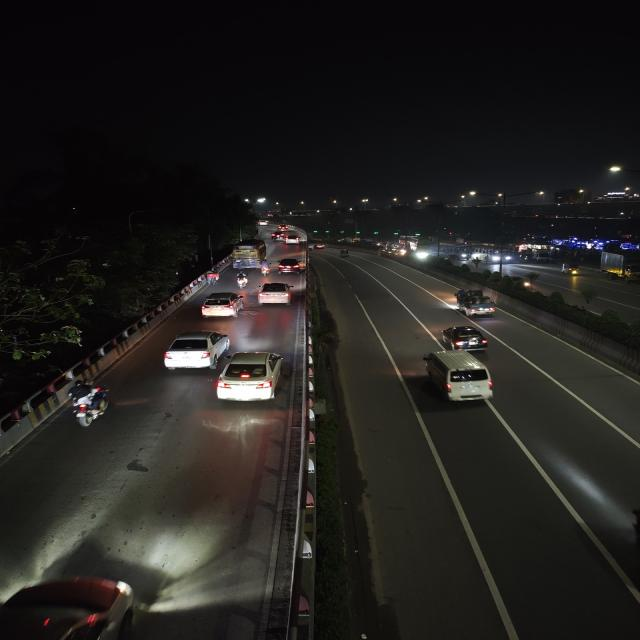bus: (231, 240, 267, 268), (440, 243, 472, 263), (488, 248, 514, 266)
car: (416, 349, 499, 407), (215, 351, 288, 407), (158, 328, 230, 374), (438, 324, 492, 352), (197, 292, 246, 321), (255, 280, 295, 306), (276, 257, 304, 275), (283, 234, 301, 246), (310, 241, 327, 251), (272, 231, 286, 243)
cng: (559, 262, 582, 278)
motorcycle: (63, 383, 113, 431), (232, 271, 250, 289), (257, 262, 272, 278), (338, 249, 350, 259)
pickup_van: (452, 287, 498, 319)
truck: (598, 248, 640, 282)
